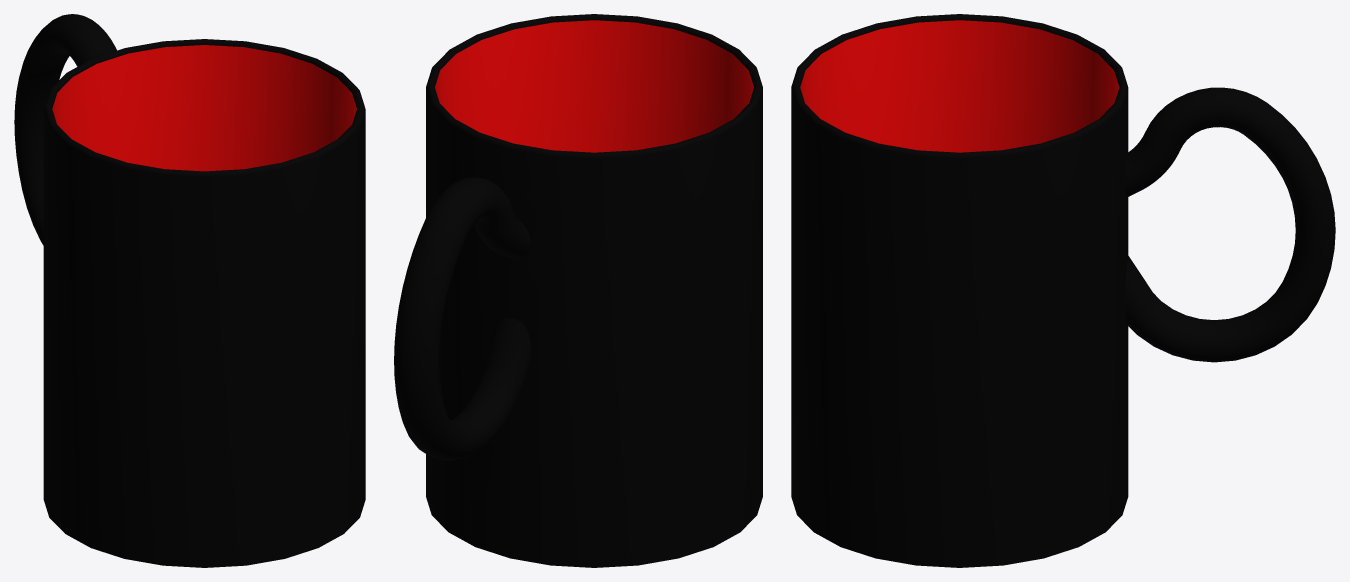
The model's file is mug_02_origin_gt_4.dae.
3 views of the same model, side by side, from view 1: azimuth 30°, elevation 25°; view 2: azimuth 150°, elevation 25°; view 3: azimuth 270°, elevation 25° (orthographic). The views are drawn at different scales.
Parts seen in each view (by area): view 1: SketchUp (×2); view 2: SketchUp (×2); view 3: SketchUp (×2).
Part boxes in pixels (x1,y1,x2,y2): SketchUp (×2): [14, 14, 365, 567]; SketchUp (×2): [394, 14, 762, 567]; SketchUp (×2): [791, 14, 1335, 567].
Bounding box in the file's own units: 4.26 × 6.87 × 5.75.
